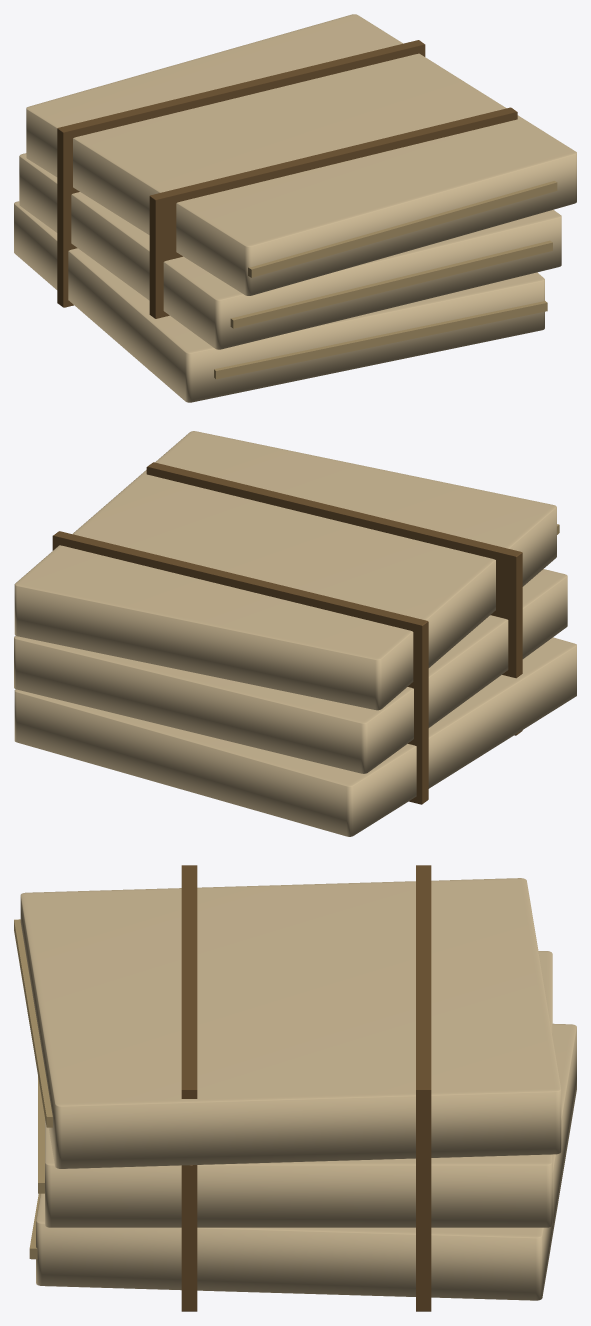
File: stoff_hanf.glb
3 renders of one model, top to bottom at view 1: azimuth 30°, elevation 25°; view 2: azimuth 150°, elevation 25°; view 3: azimuth 270°, elevation 25°, orthographic. The views are drawn at different scales.
Parts seen in each view (by area): view 1: Cube.004, Cube, Cube.002, Cube.007, Cube.006, Cube.001, Cube.003, Cube.005; view 2: Cube.004, Cube, Cube.002, Cube.007, Cube.006; view 3: Cube.004, Cube, Cube.002, Cube.007, Cube.006, Cube.005, Cube.003.
Part boxes in pixels (<box>): Cube.004: <box>26,14,576,295</box>; Cube: <box>14,201,544,402</box>; Cube.002: <box>19,153,561,349</box>; Cube.007: <box>57,40,425,307</box>; Cube.006: <box>149,107,517,318</box>; Cube.001: <box>214,300,547,379</box>; Cube.003: <box>230,240,552,328</box>; Cube.005: <box>248,181,557,277</box>; Cube.004: <box>14,431,556,710</box>; Cube: <box>14,637,576,836</box>; Cube.002: <box>14,569,567,773</box>; Cube.007: <box>52,531,428,804</box>; Cube.006: <box>146,462,522,735</box>; Cube.004: <box>20,878,561,1168</box>; Cube: <box>36,1023,576,1300</box>; Cube.002: <box>45,951,552,1227</box>; Cube.007: <box>416,865,431,1311</box>; Cube.006: <box>181,865,197,1311</box>; Cube.005: <box>14,919,52,1127</box>; Cube.003: <box>38,1076,44,1193</box>.
Bounding box in the file's own units: 0.2891 × 0.126 × 0.2884.
